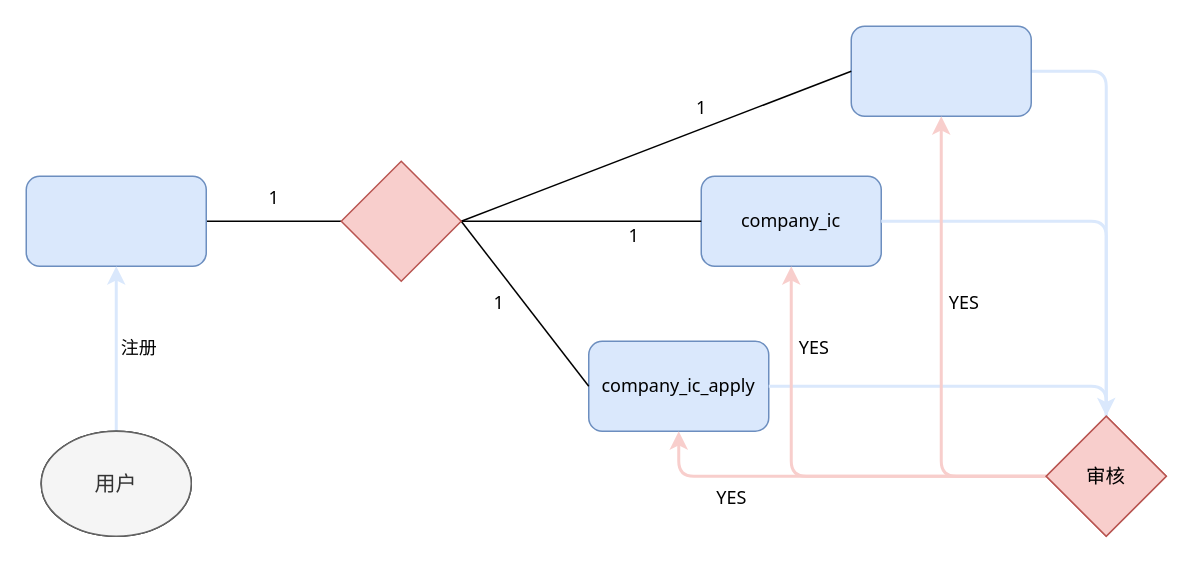
Some shapes in this 1193 by 563 pixel diagram are drawn without their labels. Each missing label, with the centre of its shape:
"company" belongs at (940,70).
"user" belongs at (115,220).
"申请认证" belongs at (400,220).
